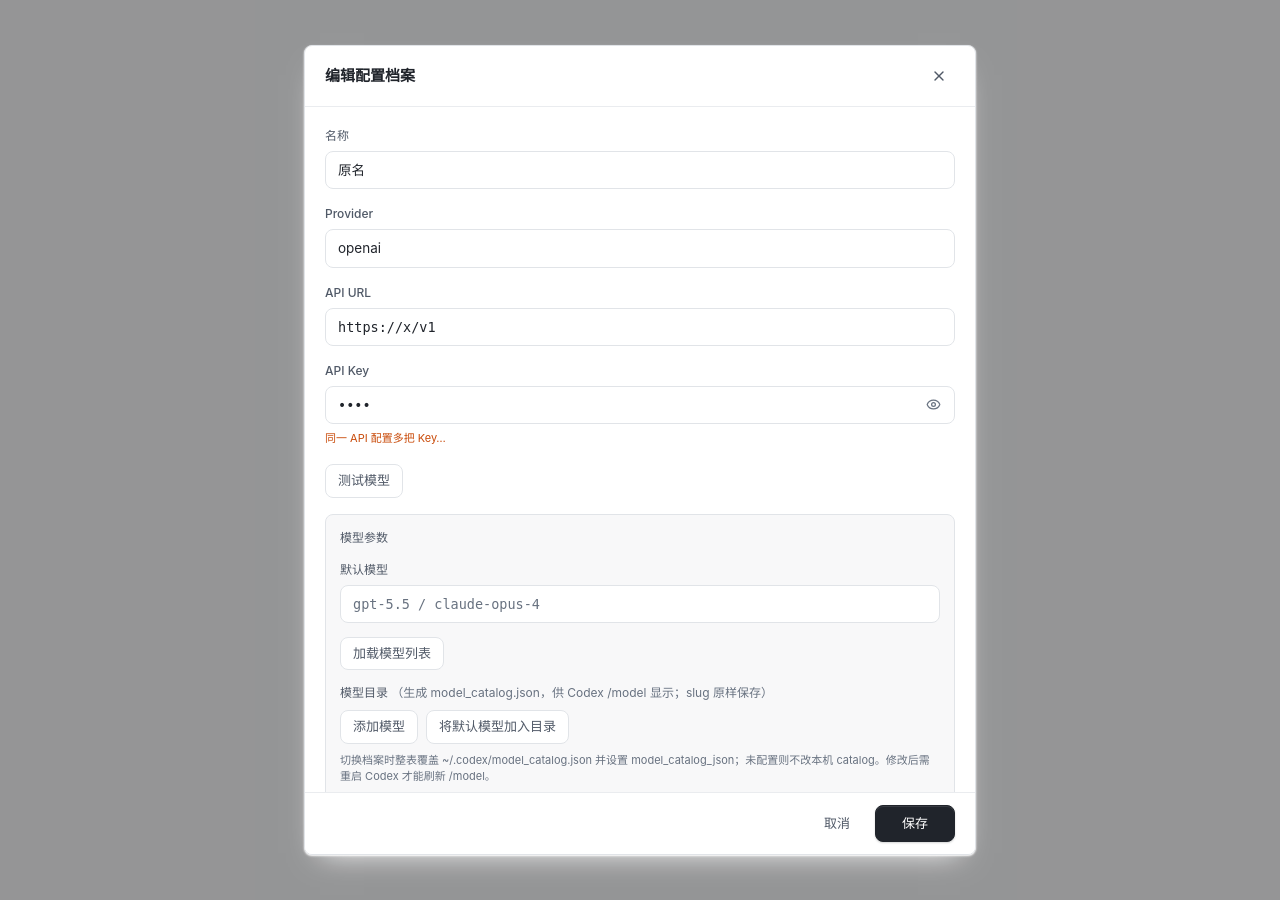
Test: 未保存修改守卫 › 非名称字段的改动同样触发守卫（不能只盯 name）
Replace the text in the field labelled "API URL" with "https://changed.example/v1" at coordinates (640, 327), box [325,308,955,346]
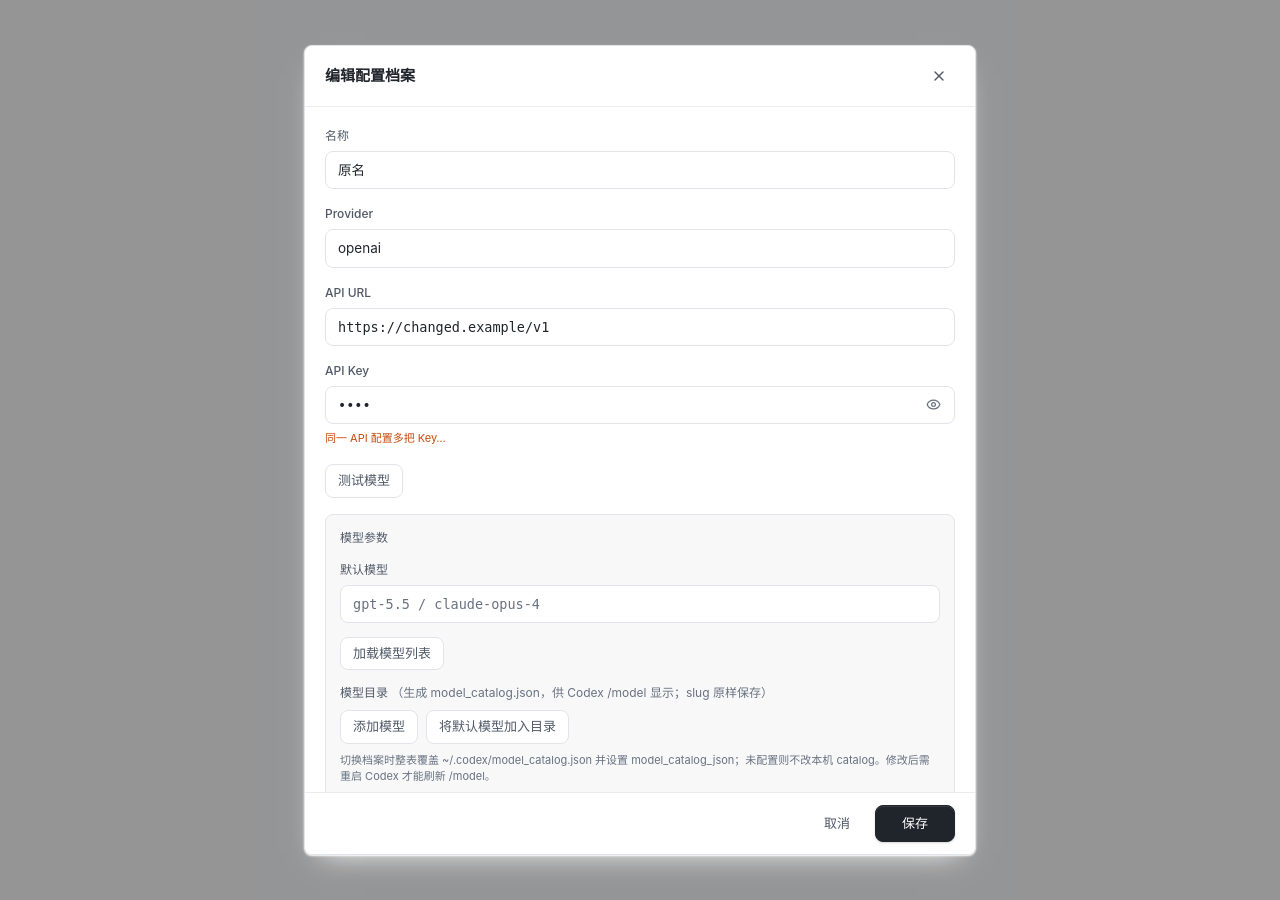
Click the button "取消".
click(837, 823)  # box [809,804,865,842]
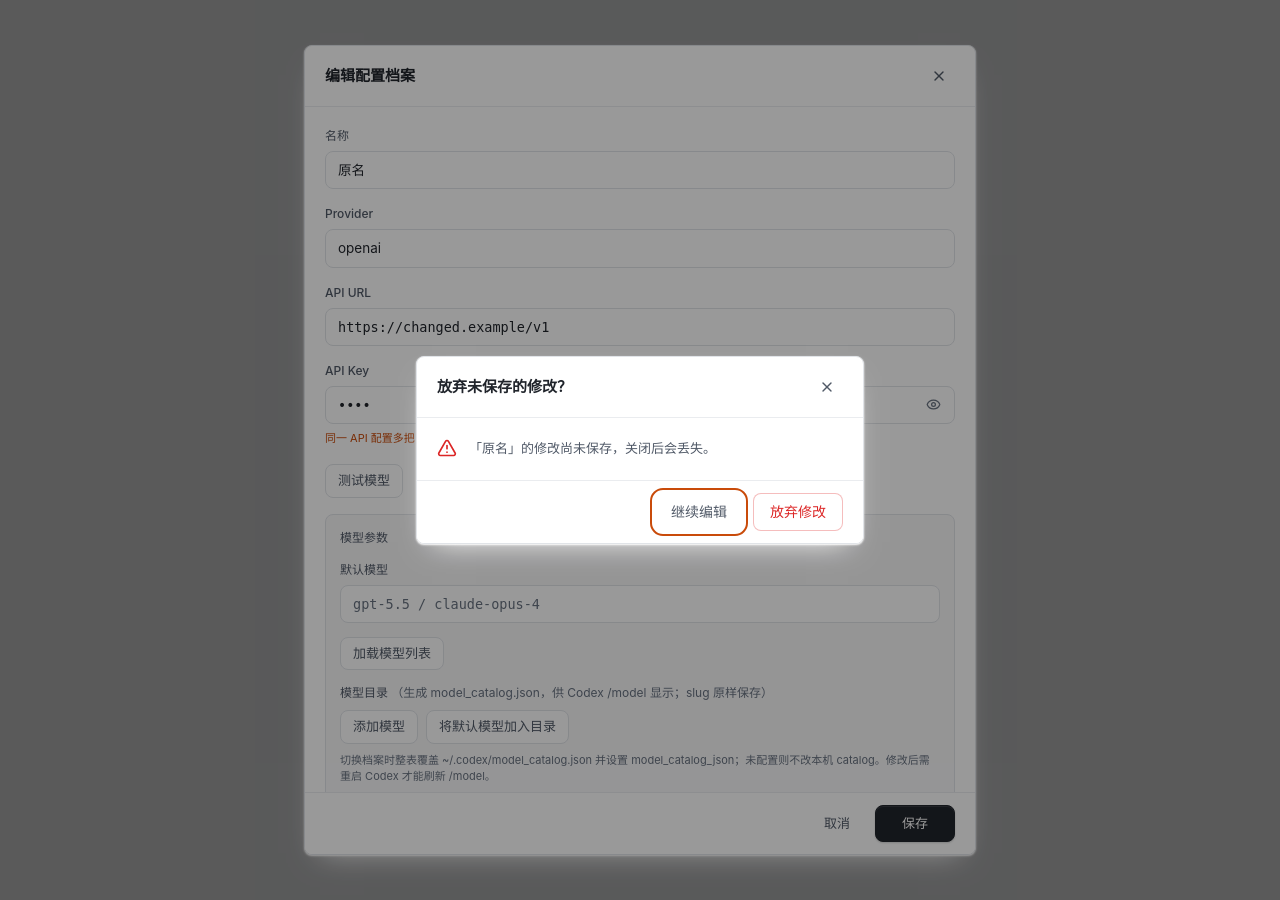
Result: the dialog is shown at [416,356,864,544]
